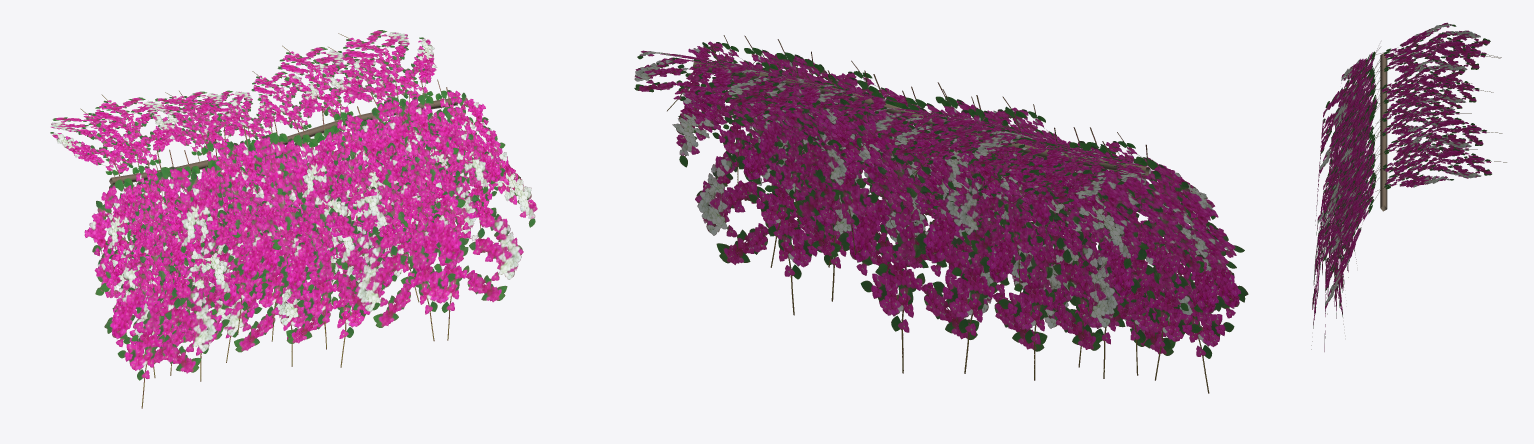
Rendered from bugambilia_muro.obj.
3 renders of one model, left to right at view 1: azimuth 30°, elevation 25°; view 2: azimuth 150°, elevation 25°; view 3: azimuth 270°, elevation 25°, orthographic. The views are drawn at different scales.
Visible parts, largest first — view 1: bugambilia_muro; view 2: bugambilia_muro; view 3: bugambilia_muro.
Boxes of the visible parts, box(x1,y1,x2,y2) form: bugambilia_muro: box(50, 30, 537, 408); bugambilia_muro: box(634, 35, 1248, 393); bugambilia_muro: box(1311, 22, 1506, 351).
Bounding box in the file's own units: 3.32 × 1.92 × 1.44.
